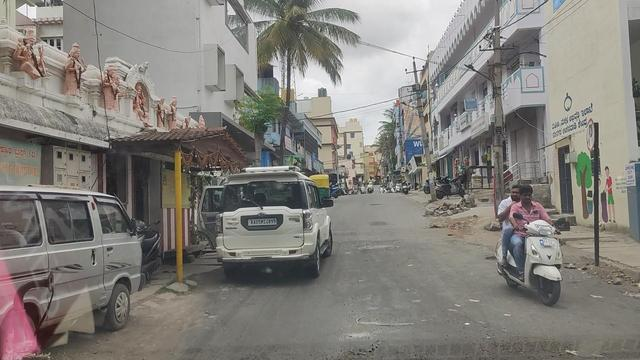LMV: (509, 186, 563, 302)
RoadDamages: (339, 324, 418, 360), (358, 242, 399, 259)
